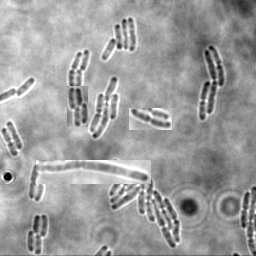Dividing: (36, 160, 151, 184), (129, 108, 172, 130), (1, 128, 18, 157), (67, 52, 81, 86), (34, 166, 47, 202), (28, 164, 39, 200), (239, 192, 249, 229)
Microcolony: (109, 158, 180, 249), (88, 76, 119, 139), (199, 45, 224, 121), (101, 18, 136, 61), (27, 214, 48, 255), (67, 86, 88, 127)
Rod: (5, 121, 23, 150), (16, 78, 34, 99), (79, 50, 89, 72), (73, 69, 82, 86)
